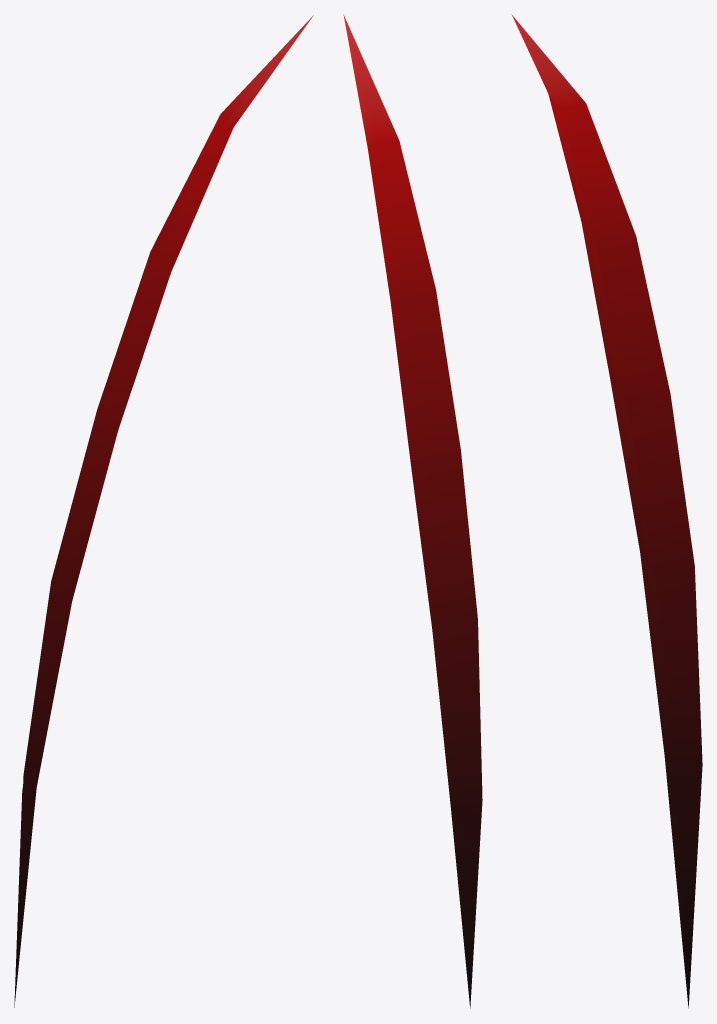
Rendered from mod_hierba3.fbx.
3 renders of one model, left to right at view 1: azimuth 30°, elevation 25°; view 2: azimuth 150°, elevation 25°; view 3: azimuth 270°, elevation 25°, orthographic. The views are drawn at different scales.
Visible parts, largest first — view 1: hierba.003; view 2: hierba.003; view 3: hierba.003.
Boxes of the visible parts, <box> form: hierba.003: <box>14,15,313,1007</box>; hierba.003: <box>343,14,482,1008</box>; hierba.003: <box>511,14,702,1008</box>.
Size of the model in its own units: 0.3104 by 1.33 by 0.2057.
